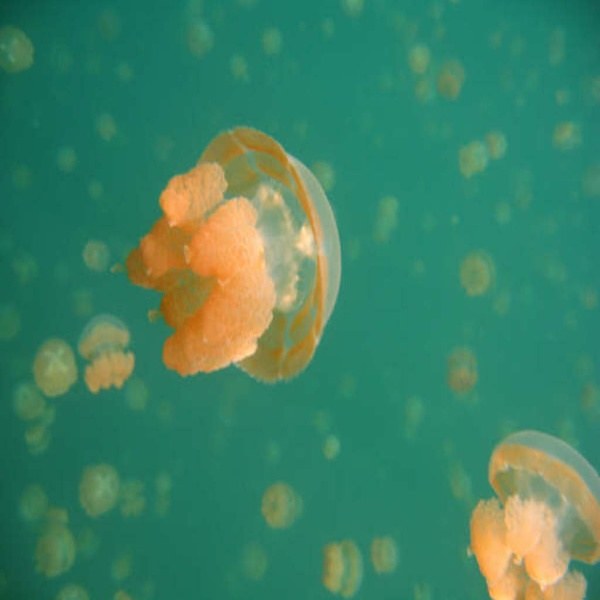Jellyfish: (125, 123, 342, 385), (473, 429, 599, 598)
